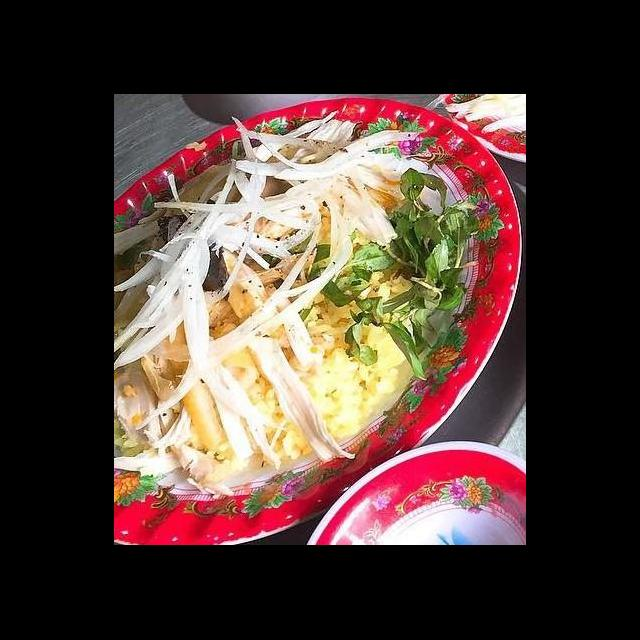com: (283, 298, 410, 444)
com ga: (118, 140, 496, 500)
rau ram: (384, 165, 484, 318), (339, 284, 468, 386), (304, 228, 397, 312)
thit ga: (241, 332, 357, 466), (115, 346, 203, 481), (217, 246, 293, 352)
